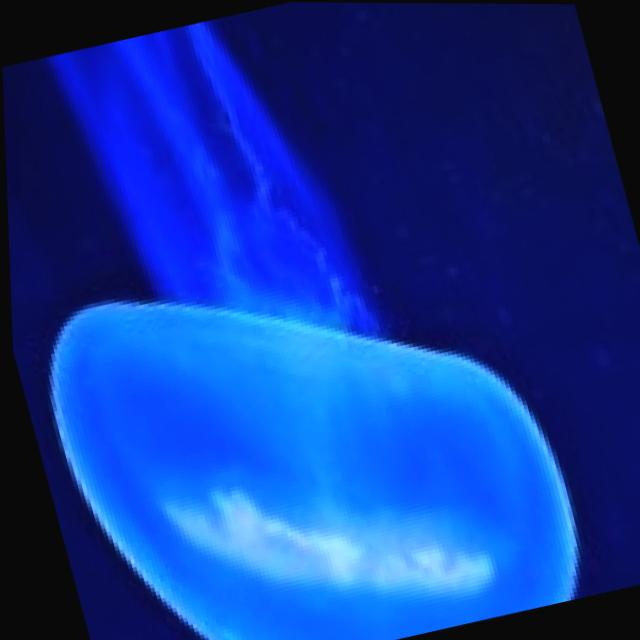Jellyfish: (13, 208, 590, 640)
